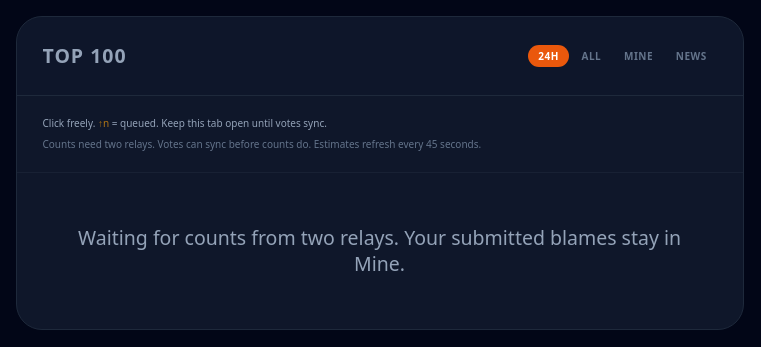
Test: Blameboard › explains a sparse-relay wait and preserves submitted topics in Mine without showing a false zero
Expected: the message shows "Waiting for counts from two relays", [78,224,681,276]
Click the button "Mine". click: (639,56)
box: [614,45,663,67]
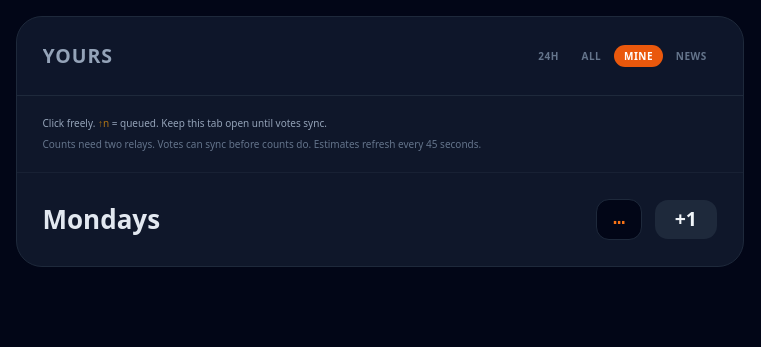
Now the text "Mondays" is shown, box [42,200,160,238]
Now the text titled "waiting for counts from two relays" reads "…", box [613,208,625,230]
